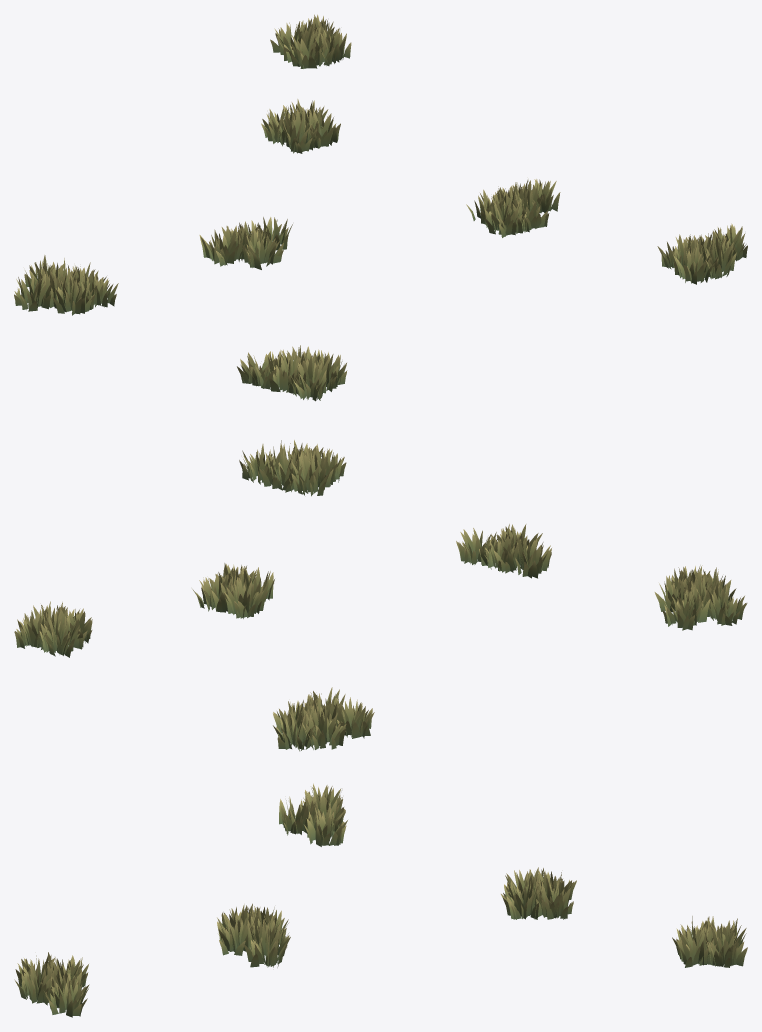
File: windrose_grass.glb
The picture shows the model from 3 angles, top to bottom: view 1: azimuth 30°, elevation 25°; view 2: azimuth 150°, elevation 25°; view 3: azimuth 270°, elevation 25°; orthographic projection. The views are drawn at different scales.
Visible parts, largest first — view 1: Grass_21_22, Grass_22_6, Grass_11_19, Grass_4_20, Grass_18_12, Grass_12_20, Grass_3_19, Grass_25_29, Grass_26_29, Grass_19_12, Grass_5_20, Grass_22_22 (+11 smaller); view 2: Grass_22_5, Grass_18_11, Grass_25_28, Grass_21_21, Grass_12_19, Grass_4_18, Grass_22_21, Grass_11_19, Grass_26_28, Grass_3_19, Grass_23_5, Grass_27_28 (+9 smaller); view 3: Grass_5_19, Grass_23_6, Grass_19_12, Grass_23_5, Grass_19_11, Grass_27_28, Grass_5_20, Grass_23_21, Grass_13_19, Grass_22_22, Grass_4_18, Grass_26_29 (+6 smaller).
Part boxes in pixels (x1=…): Grass_21_22: x1=484, y1=188, x2=526, y2=237; Grass_22_6: x1=283, y1=27, x2=334, y2=68; Grass_11_19: x1=199, y1=225, x2=247, y2=266; Grass_4_20: x1=52, y1=272, x2=94, y2=315; Grass_18_12: x1=274, y1=108, x2=317, y2=153; Grass_12_20: x1=242, y1=229, x2=283, y2=269; Grass_3_19: x1=14, y1=272, x2=56, y2=311; Grass_25_29: x1=673, y1=240, x2=718, y2=284; Grass_26_29: x1=700, y1=237, x2=736, y2=279; Grass_19_12: x1=302, y1=107, x2=340, y2=148; Grass_5_20: x1=77, y1=267, x2=118, y2=309; Grass_22_22: x1=505, y1=186, x2=549, y2=232; Grass_22_5: x1=39, y1=610, x2=87, y2=657; Grass_18_11: x1=220, y1=571, x2=268, y2=618; Grass_25_28: x1=290, y1=352, x2=336, y2=401; Grass_21_21: x1=289, y1=449, x2=333, y2=496; Grass_12_19: x1=479, y1=524, x2=525, y2=573; Grass_4_18: x1=662, y1=587, x2=710, y2=630; Grass_22_21: x1=259, y1=440, x2=311, y2=492; Grass_11_19: x1=503, y1=536, x2=551, y2=578; Grass_26_28: x1=261, y1=349, x2=306, y2=394; Grass_3_19: x1=705, y1=584, x2=747, y2=625; Grass_23_5: x1=14, y1=605, x2=56, y2=649; Grass_27_28: x1=237, y1=351, x2=282, y2=389; Grass_5_19: x1=302, y1=709, x2=346, y2=749; Grass_23_6: x1=677, y1=923, x2=716, y2=967; Grass_19_12: x1=501, y1=872, x2=542, y2=919; Grass_23_5: x1=704, y1=923, x2=747, y2=967; Grass_19_11: x1=536, y1=873, x2=573, y2=919; Grass_27_28: x1=44, y1=970, x2=88, y2=1017; Grass_5_20: x1=273, y1=705, x2=315, y2=751; Grass_23_21: x1=243, y1=923, x2=287, y2=967; Grass_13_19: x1=304, y1=806, x2=347, y2=846; Grass_22_22: x1=217, y1=912, x2=259, y2=955; Grass_4_18: x1=333, y1=697, x2=374, y2=738; Grass_26_29: x1=14, y1=958, x2=53, y2=1005.
Size of the model in its own units: 12.79 by 0.6799 by 12.81.
